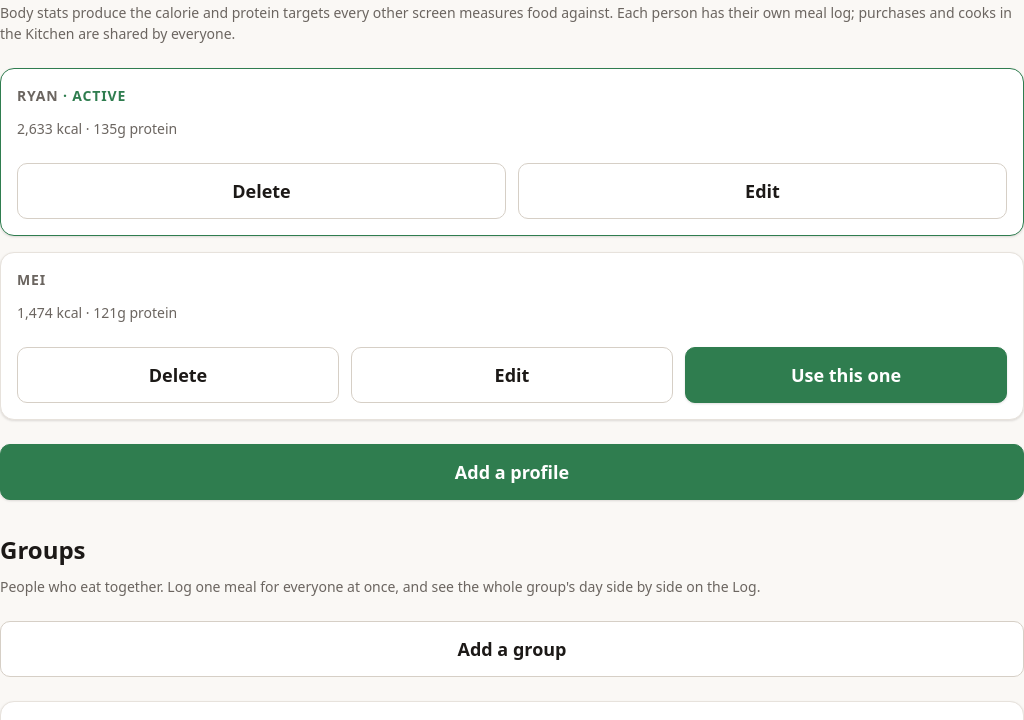
Test: ProfileScreen editing and adding › returns to the list after saving, and reports the change
Click the button "Edit" below "121" at (512, 375), box [351, 347, 673, 403]
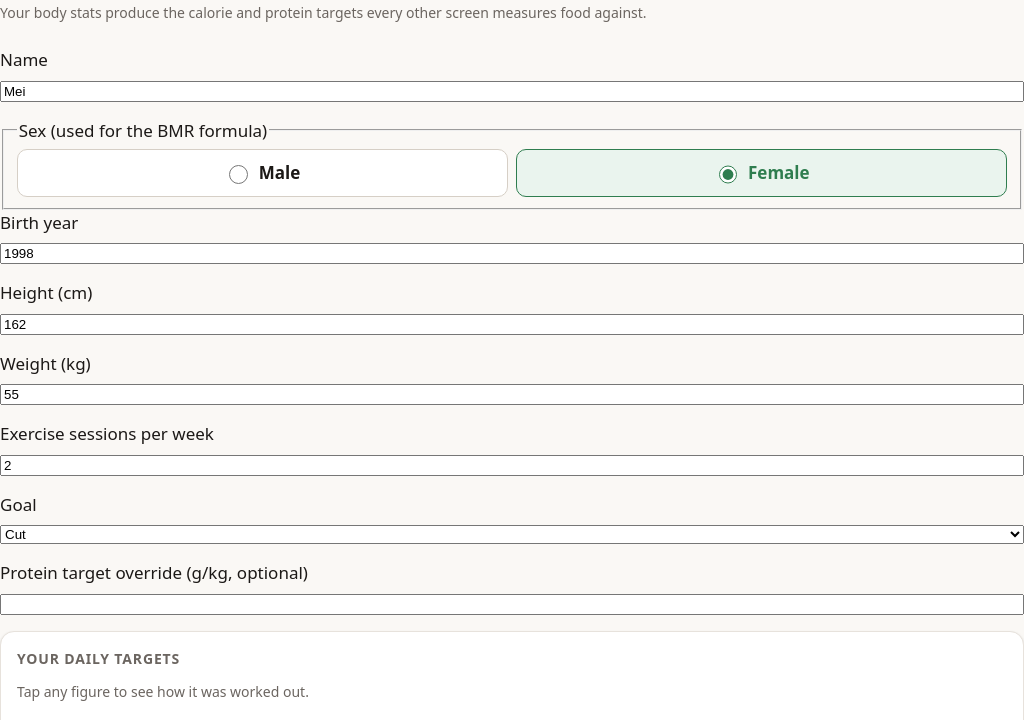
Replace the text in the number field labelled "Weight (kg)" with "56" at (512, 395), box [0, 384, 1023, 405]
(page scrolled)
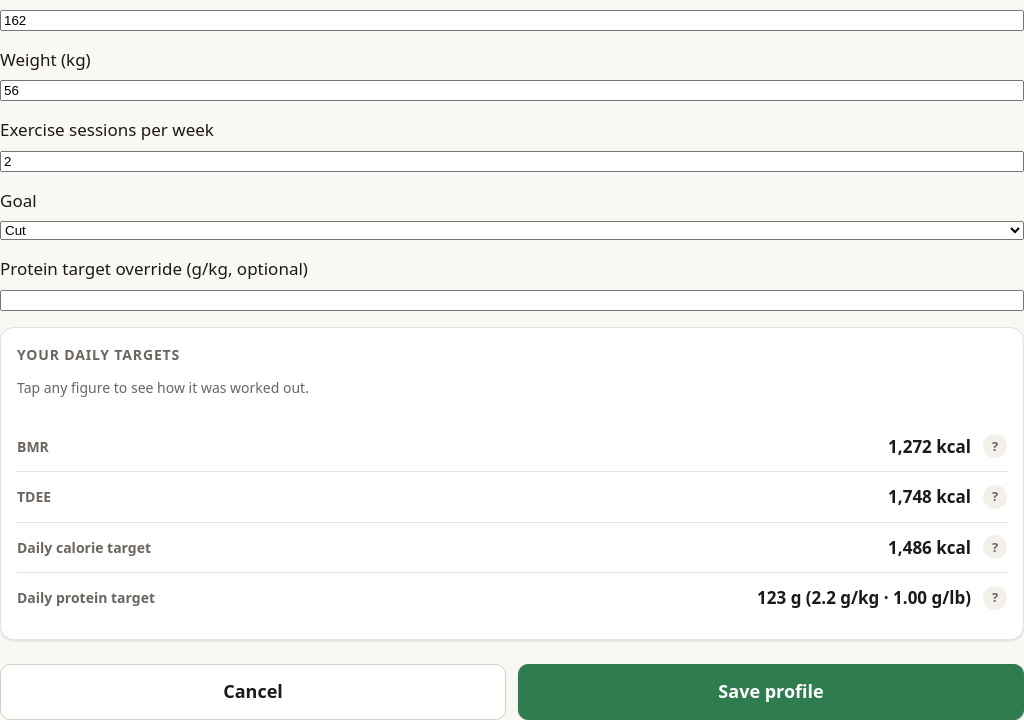
Click the button "Save profile" at (771, 692), box [518, 664, 1023, 719]
(page scrolled)
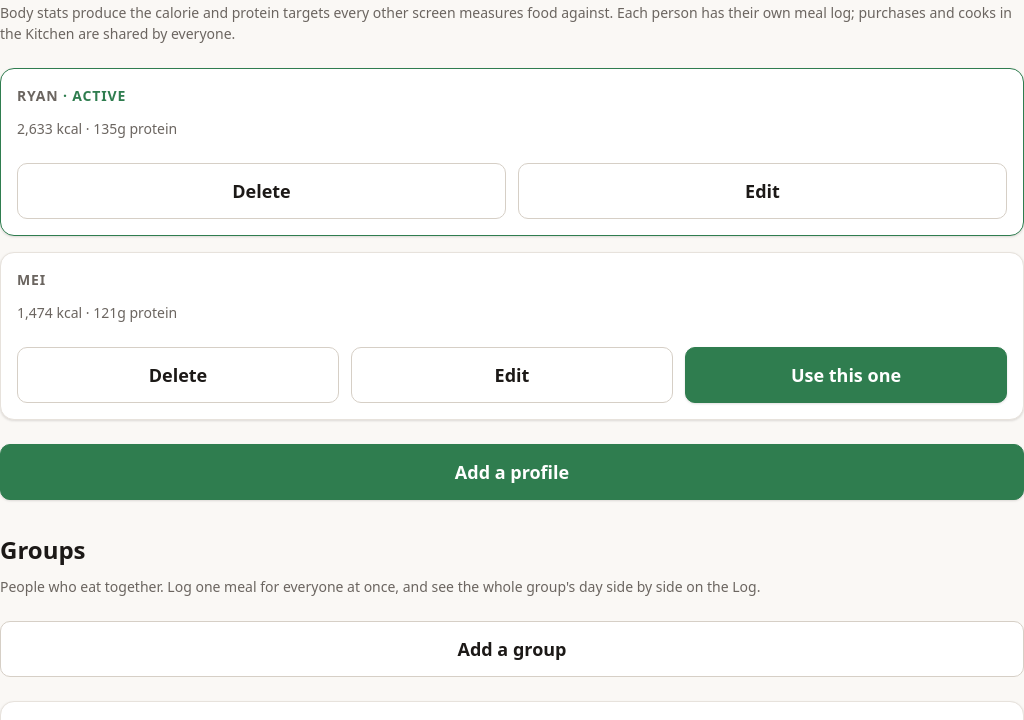
Now the element with test id "profile-p1" is shown, box [0, 68, 1023, 236]
